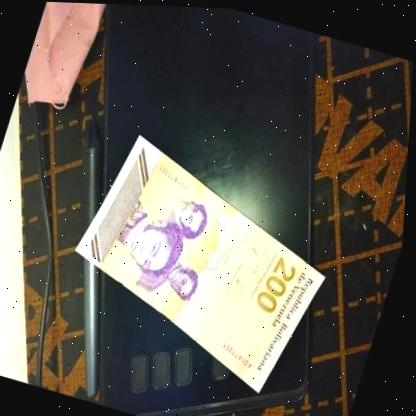two_hundred-front-vef: (49, 123, 357, 401)
